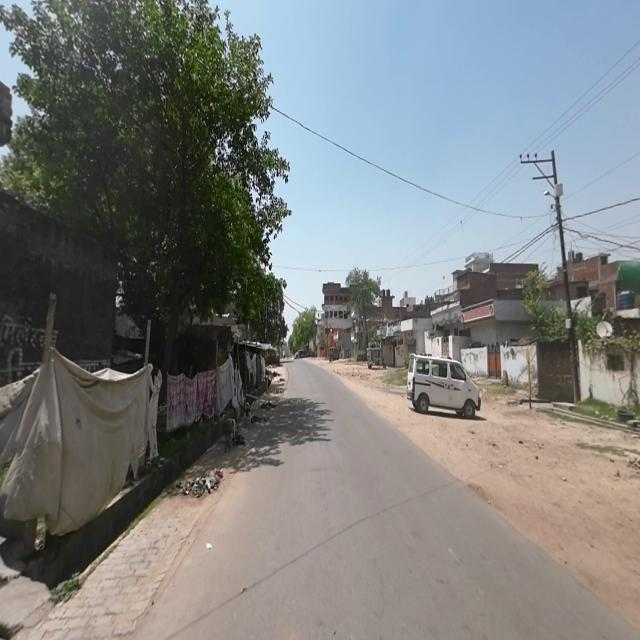Garbage: (171, 470, 223, 497)
